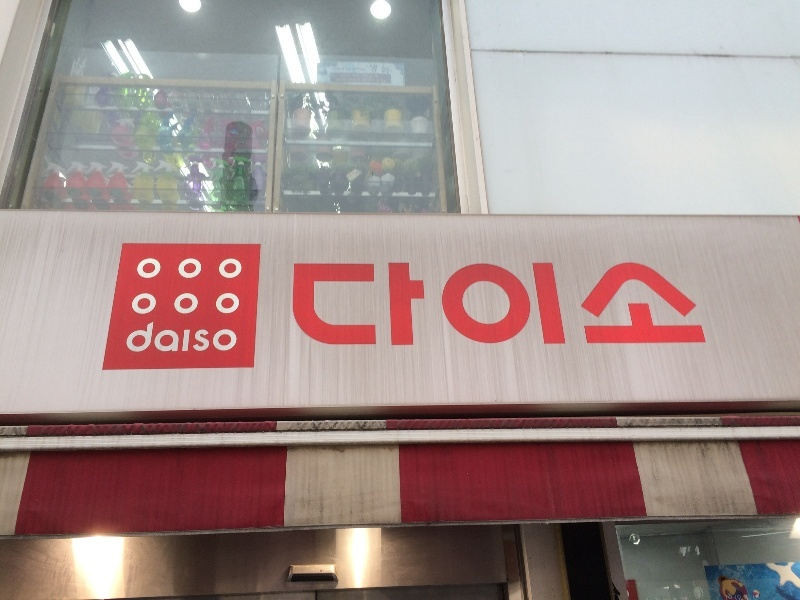text: (289, 259, 304, 350), (305, 259, 320, 350), (321, 259, 336, 350), (337, 259, 352, 350), (353, 259, 368, 350), (369, 259, 384, 350), (385, 259, 400, 350), (401, 259, 416, 350), (417, 259, 432, 350), (433, 259, 448, 350), (449, 259, 464, 350), (465, 259, 480, 350), (481, 259, 496, 350), (497, 259, 512, 350), (513, 259, 528, 350), (529, 259, 544, 350), (545, 259, 560, 350), (561, 259, 576, 350), (577, 259, 592, 350), (593, 259, 608, 350), (609, 259, 624, 350), (625, 259, 640, 350), (641, 259, 656, 350), (657, 259, 672, 350), (673, 259, 688, 350), (689, 259, 704, 350), (705, 259, 714, 350), (225, 320, 241, 359), (129, 320, 144, 359), (145, 320, 160, 359), (161, 320, 176, 359), (177, 320, 192, 359), (193, 320, 208, 359), (209, 320, 224, 359), (370, 65, 384, 74), (385, 65, 390, 74)
